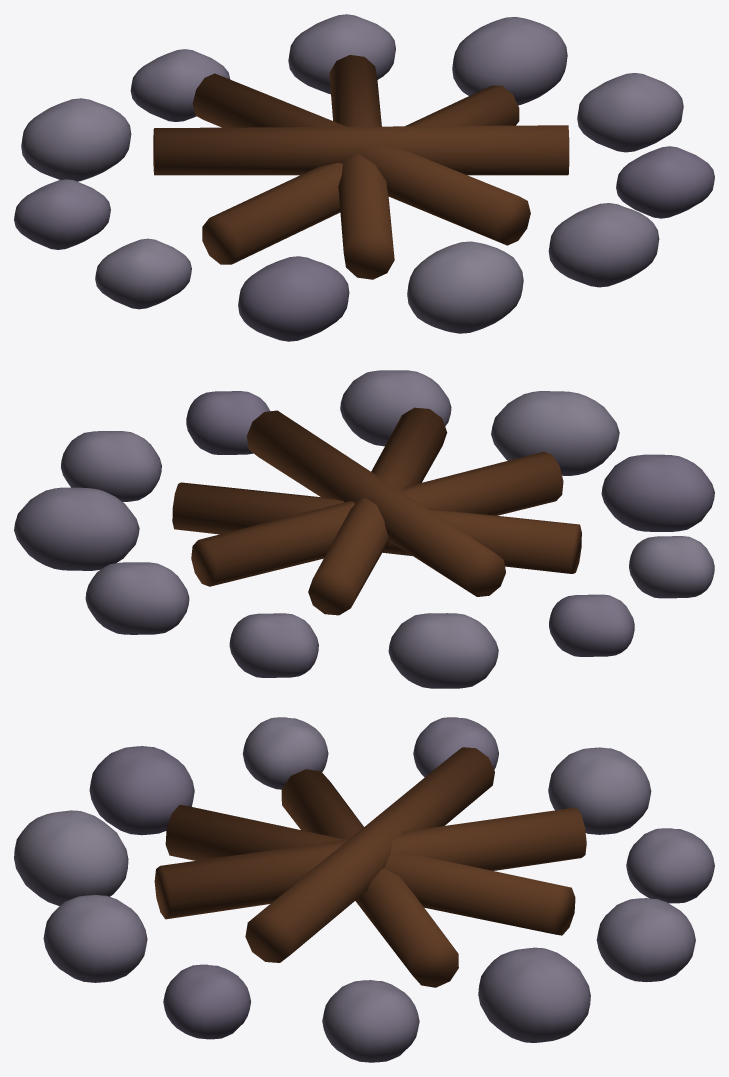
The model's file is firepit.glb.
The picture shows the model from 3 angles, top to bottom: view 1: azimuth 30°, elevation 25°; view 2: azimuth 150°, elevation 25°; view 3: azimuth 270°, elevation 25°; orthographic projection. The views are drawn at different scales.
Visible parts, largest first — view 1: firepit; view 2: firepit; view 3: firepit.
Part boxes in pixels (x1=…): firepit: x1=14, y1=14, x2=714, y2=341; firepit: x1=14, y1=370, x2=714, y2=688; firepit: x1=14, y1=717, x2=714, y2=1062.
Size of the model in its own units: 2.47 by 0.3248 by 2.32.
